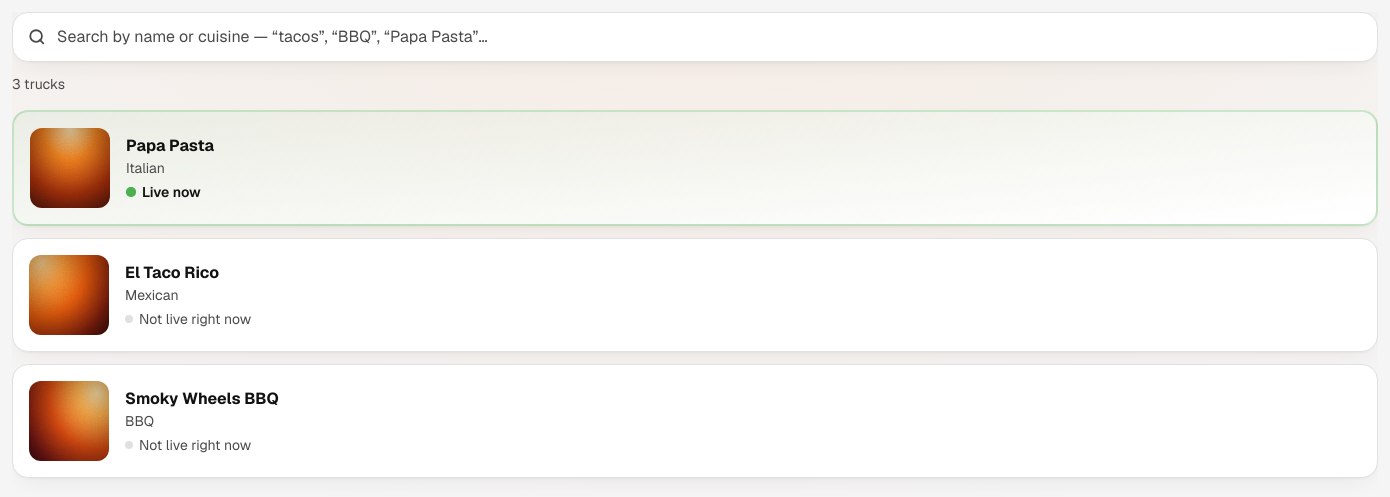
Test case: TrucksDirectory › shows a clear empty state, not a blank list, when nothing matches
This screenshot has width=1390, height=497.
Type "nonexistent cuisine xyz" into the search field named "Search trucks by name or cuisine".
click(695, 37); type("nonexistent cuisine xyz")  # box x1=12 y1=12 x2=1378 y2=62
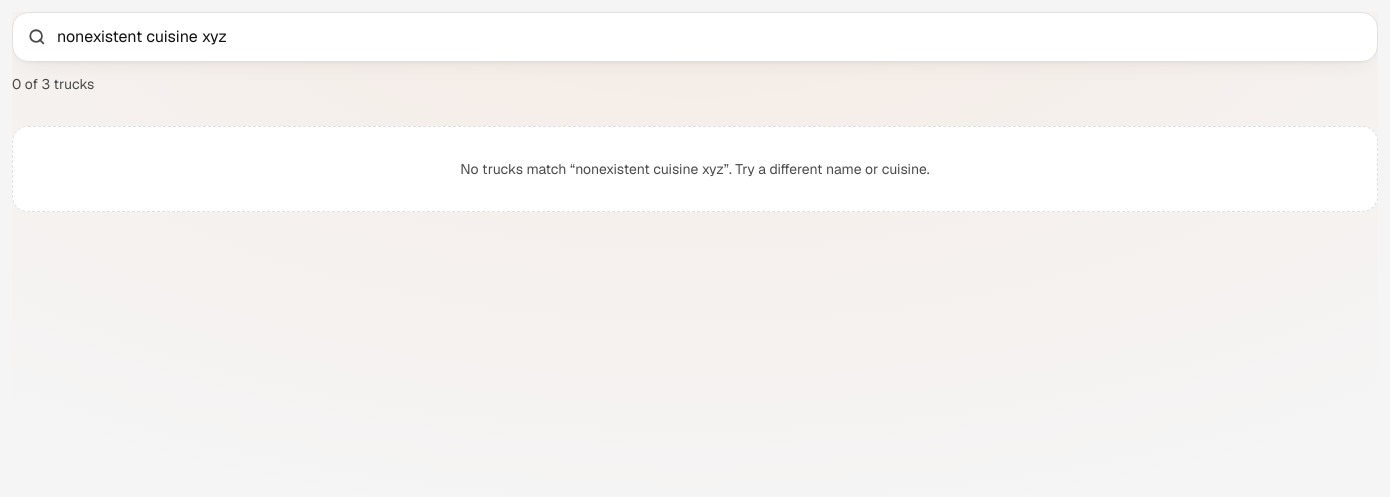
Expected: no links are shown
Expected: the text "No trucks match" is shown, x1=460 y1=160 x2=575 y2=178
